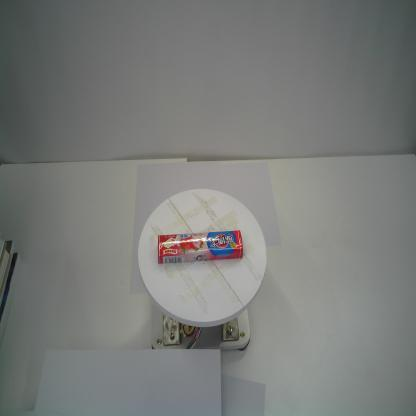Candy: (158, 229, 244, 264)
